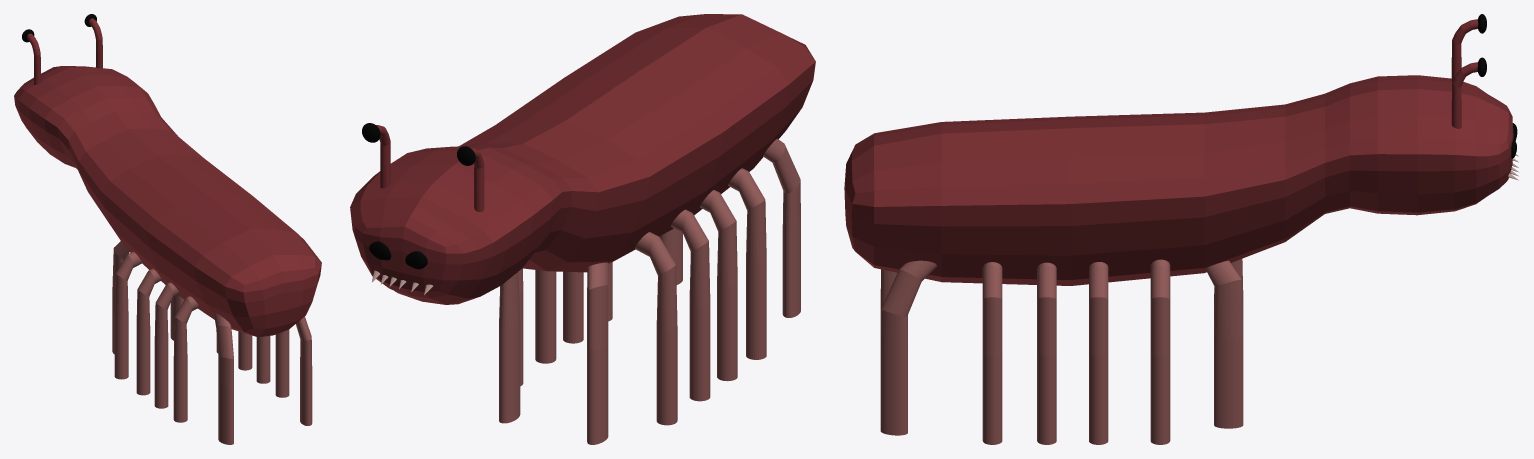
File: AntCreature1.fbx
3 views of the same model, side by side, from view 1: azimuth 30°, elevation 25°; view 2: azimuth 150°, elevation 25°; view 3: azimuth 270°, elevation 25° (orthographic). The views are drawn at different scales.
Parts seen in each view (by area): view 1: Cube, Cylinder.005, Cylinder.007, Cylinder.001, Cylinder.009, Cylinder.010, Cylinder, Cylinder.011, Cylinder.002, Cylinder.003, Cylinder.006, Cylinder.013 (+2 smaller); view 2: Cube, Cylinder.007, Cylinder.009, Cylinder.001, Cylinder.010, Cylinder.003, Cylinder.005, Cylinder.008, Cylinder.006, Cylinder.002, Cylinder, Cylinder.012 (+2 smaller); view 3: Cube, Cylinder, Cylinder.008, Cylinder.004, Cylinder.011, Cylinder.006, Cylinder.002, Cylinder.012, Cylinder.013.
Part boxes in pixels (bbox=[...]): Cube: bbox=[14, 66, 321, 337]; Cylinder.005: bbox=[213, 312, 233, 444]; Cylinder.007: bbox=[114, 251, 142, 379]; Cylinder.001: bbox=[173, 296, 199, 422]; Cylinder.009: bbox=[136, 268, 161, 395]; Cylinder.010: bbox=[154, 282, 179, 408]; Cylinder: bbox=[296, 316, 312, 425]; Cylinder.011: bbox=[275, 329, 289, 397]; Cylinder.002: bbox=[256, 336, 270, 383]; Cylinder.003: bbox=[112, 241, 129, 354]; Cylinder.006: bbox=[238, 331, 252, 370]; Cylinder.013: bbox=[27, 33, 40, 84]; Cube: bbox=[350, 14, 815, 304]; Cylinder.007: bbox=[635, 232, 677, 425]; Cylinder.009: bbox=[671, 209, 710, 401]; Cylinder.001: bbox=[728, 168, 766, 359]; Cylinder.010: bbox=[700, 190, 737, 381]; Cylinder.003: bbox=[587, 262, 608, 444]; Cylinder.005: bbox=[763, 138, 800, 317]; Cylinder.008: bbox=[499, 272, 520, 423]; Cylinder.006: bbox=[535, 270, 556, 363]; Cylinder.002: bbox=[563, 271, 583, 343]; Cylinder: bbox=[659, 228, 682, 284]; Cylinder.012: bbox=[376, 125, 390, 188]; Cube: bbox=[844, 75, 1513, 285]; Cylinder: bbox=[880, 260, 936, 435]; Cylinder.008: bbox=[1205, 260, 1243, 428]; Cylinder.004: bbox=[1150, 259, 1170, 444]; Cylinder.011: bbox=[982, 262, 1002, 444]; Cylinder.006: bbox=[1089, 262, 1108, 444]; Cylinder.002: bbox=[1037, 262, 1056, 444]; Cylinder.012: bbox=[1451, 62, 1477, 128]; Cylinder.013: bbox=[1451, 19, 1478, 81].
Bounding box in the file's own units: 38.09 × 82.93 × 138.
